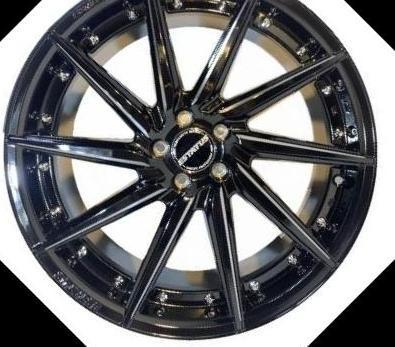hole: (169, 102, 199, 132), (204, 156, 234, 186), (167, 166, 197, 196), (144, 133, 174, 162), (207, 116, 235, 145)
